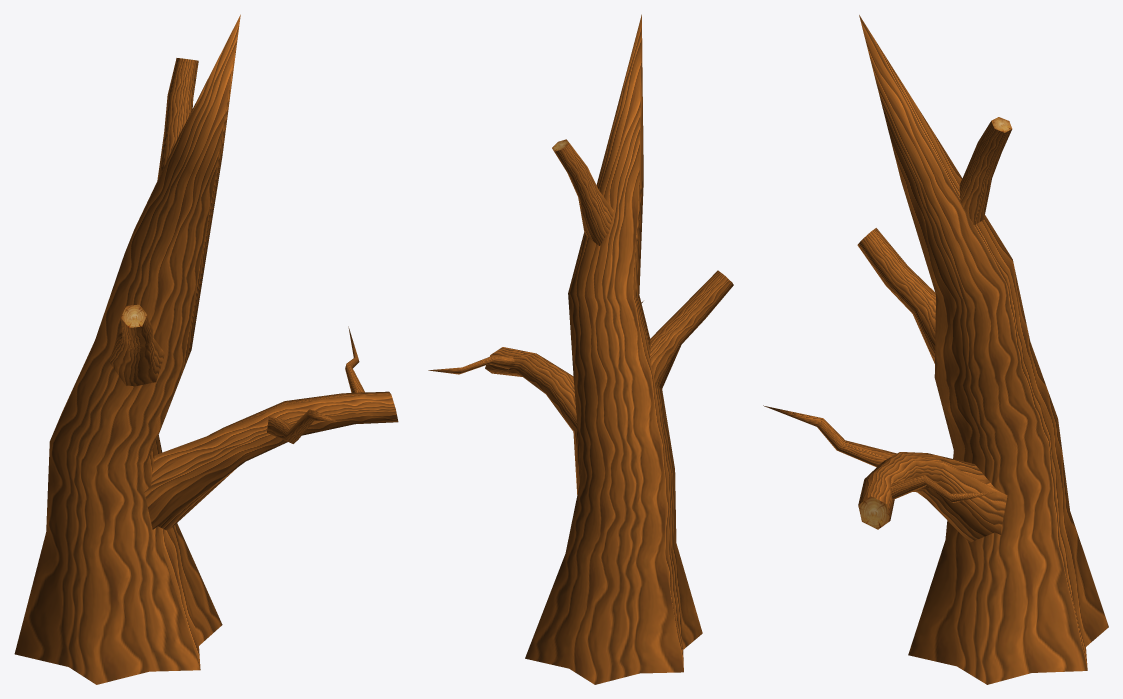
File: Tree01.FBX
3 renders of one model, left to right at view 1: azimuth 30°, elevation 25°; view 2: azimuth 150°, elevation 25°; view 3: azimuth 270°, elevation 25°, orthographic. The views are drawn at different scales.
Parts seen in each view (by area): view 1: Tree01; view 2: Tree01; view 3: Tree01.
Part boxes in pixels (<box>): Tree01: <box>14,14,398,684</box>; Tree01: <box>428,14,733,684</box>; Tree01: <box>763,15,1108,684</box>.
Size of the model in its own units: 26.53 by 53.69 by 26.04.
